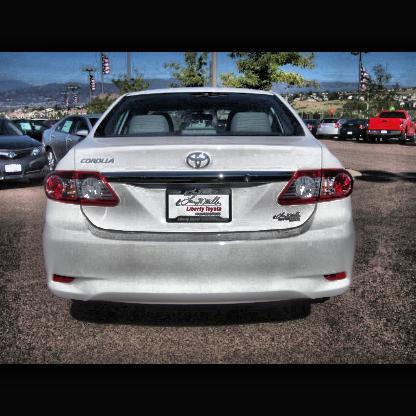Toyota Corolla Sedan 2012: (44, 84, 359, 310)
